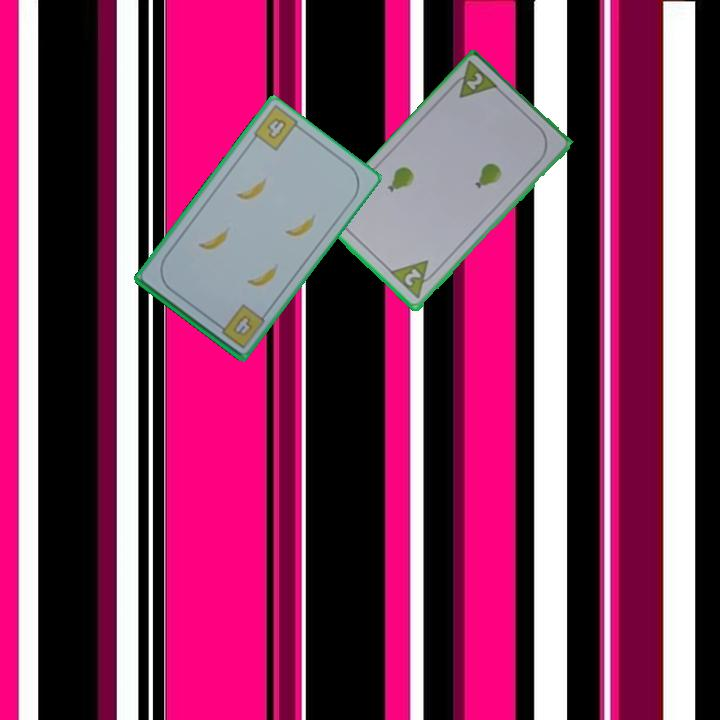2p: (445, 58, 502, 102), (401, 265, 424, 290)
4b: (212, 301, 268, 351), (263, 114, 290, 142)
